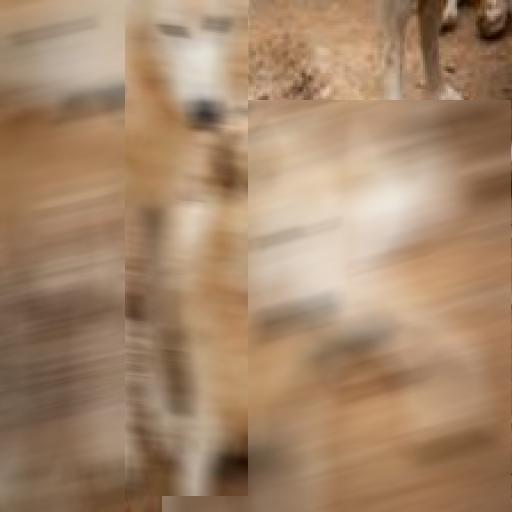wolf: (162, 100, 511, 512), (89, 0, 248, 496), (0, 0, 125, 512)
